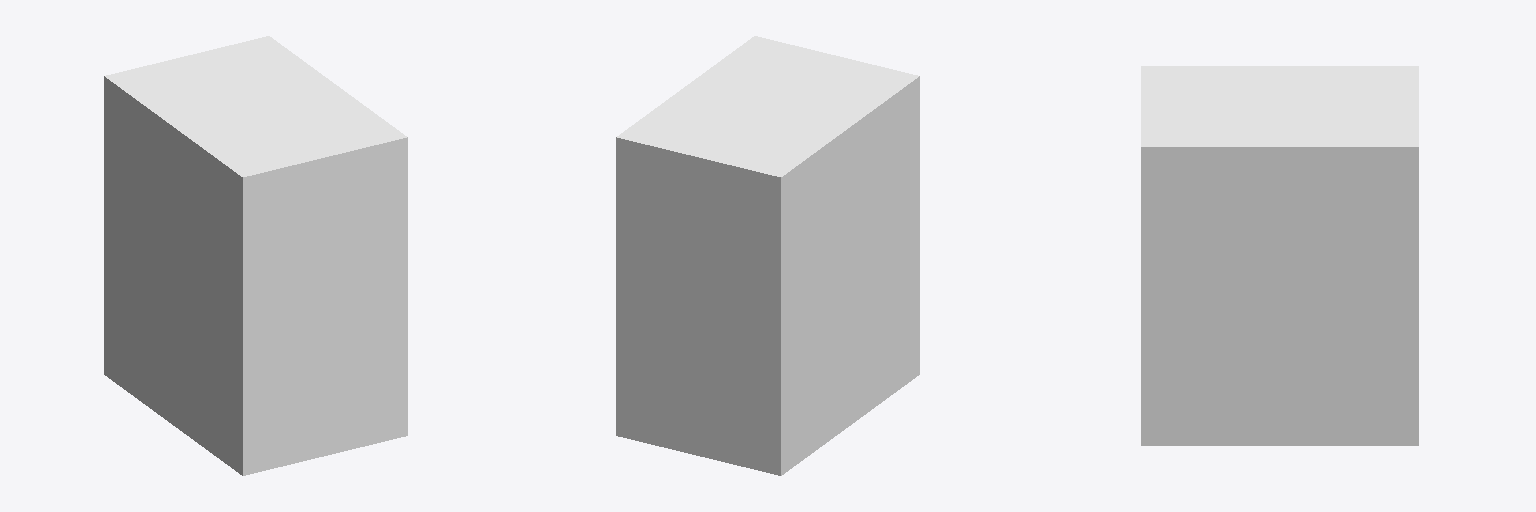
File: strong_bear-3.obj
The picture shows the model from 3 angles: view 1: azimuth 30°, elevation 25°; view 2: azimuth 150°, elevation 25°; view 3: azimuth 270°, elevation 25°; orthographic projection.
Parts seen in each view (by area): view 1: object 1; view 2: object 1; view 3: object 1.
Part boxes in pixels (left/top/right/bottom): object 1: left=104, top=36, right=407, bottom=475; object 1: left=616, top=36, right=919, bottom=475; object 1: left=1141, top=66, right=1418, bottom=445.
Size of the model in its own units: 1.1 by 1.9 by 1.6.